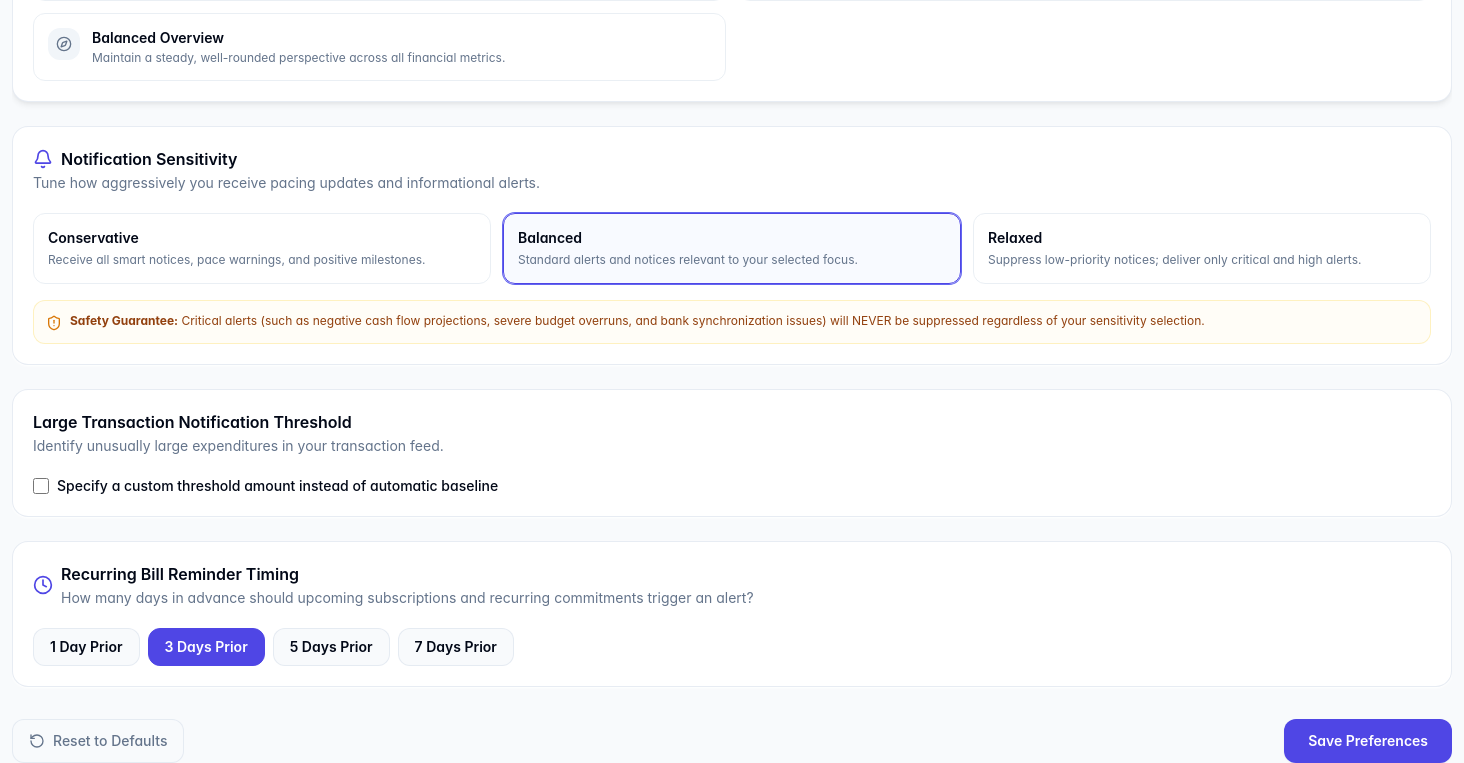
it: Personalization & Adaptive Intelligence (Phase 16) › resets personalization settings when reset button is clicked
(page scrolled)
Click the button with test id "reset-personalization-btn": {"x": 98, "y": 740} [12,718,184,762]
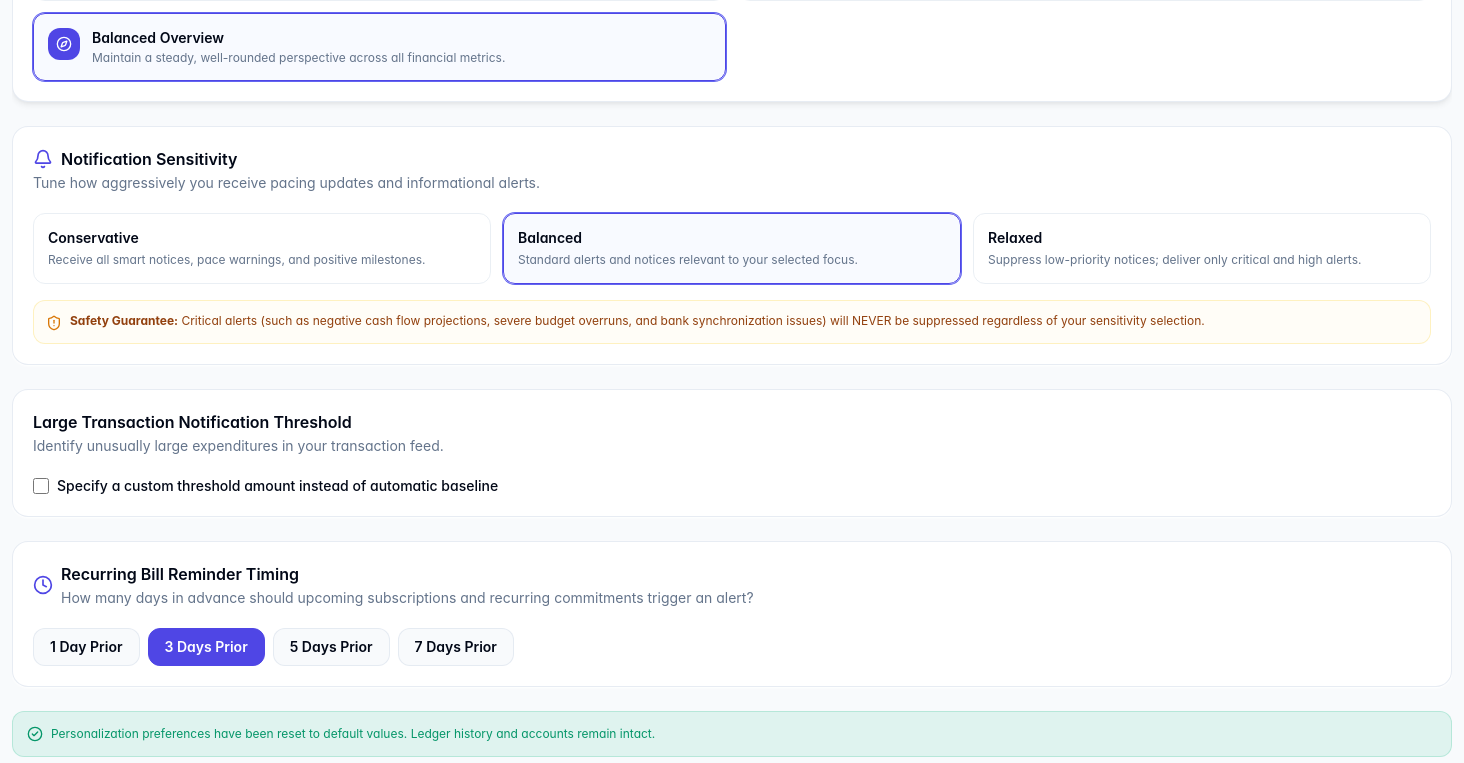
Expected: the element with test id "reset-success-banner" is shown, [12,710,1452,756]
